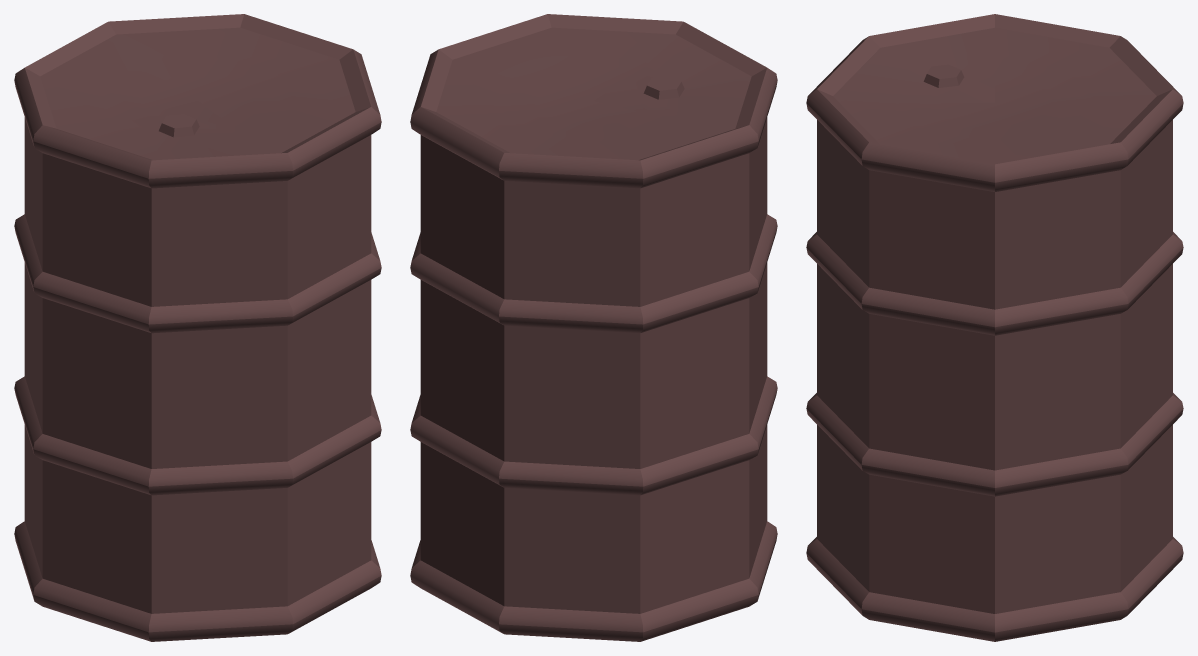
Rendered from barrel.fbx.
3 renders of one model, left to right at view 1: azimuth 30°, elevation 25°; view 2: azimuth 150°, elevation 25°; view 3: azimuth 270°, elevation 25°, orthographic.
Visible parts, largest first — view 1: Barrel; view 2: Barrel; view 3: Barrel.
Part boxes in pixels (x1,y1,x2,y2): Barrel: (14,14,381,641); Barrel: (410,14,777,641); Barrel: (806,14,1183,641).
Size of the model in its own units: 12.79 by 17.87 by 12.79.
